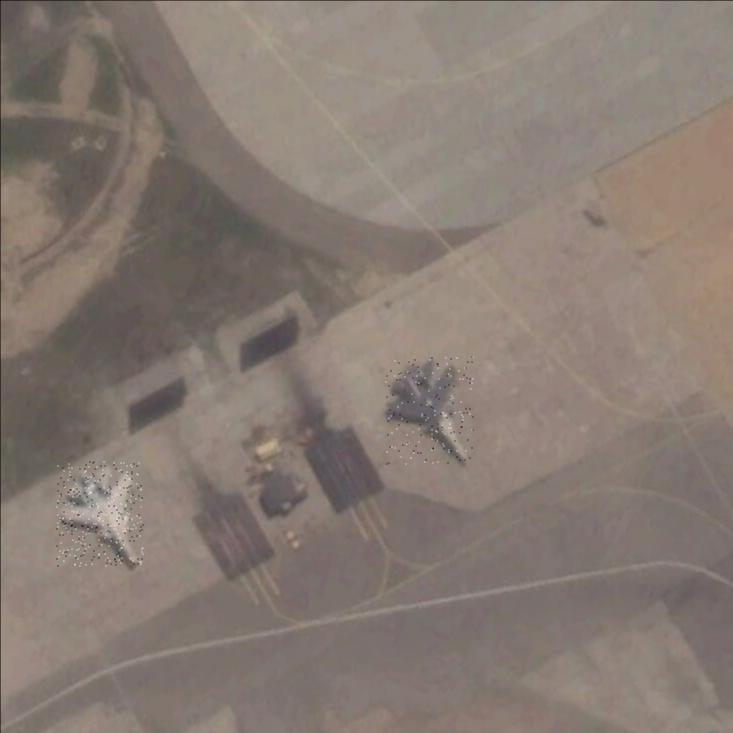A19: (385, 356, 473, 464), (56, 461, 143, 567)
